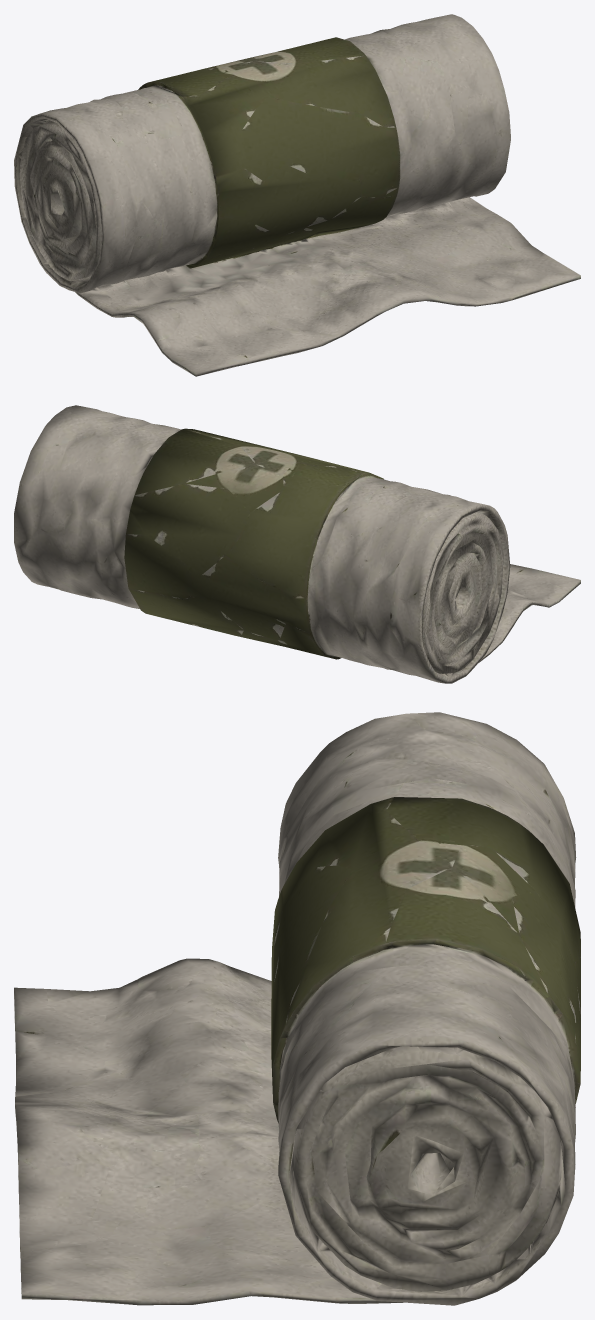
The picture shows the model from 3 angles, top to bottom: view 1: azimuth 30°, elevation 25°; view 2: azimuth 150°, elevation 25°; view 3: azimuth 270°, elevation 25°; orthographic projection. The views are drawn at different scales.
Bounding box in the file's own units: 1.9 × 0.7776 × 1.4.
1 material, 1 textured.
